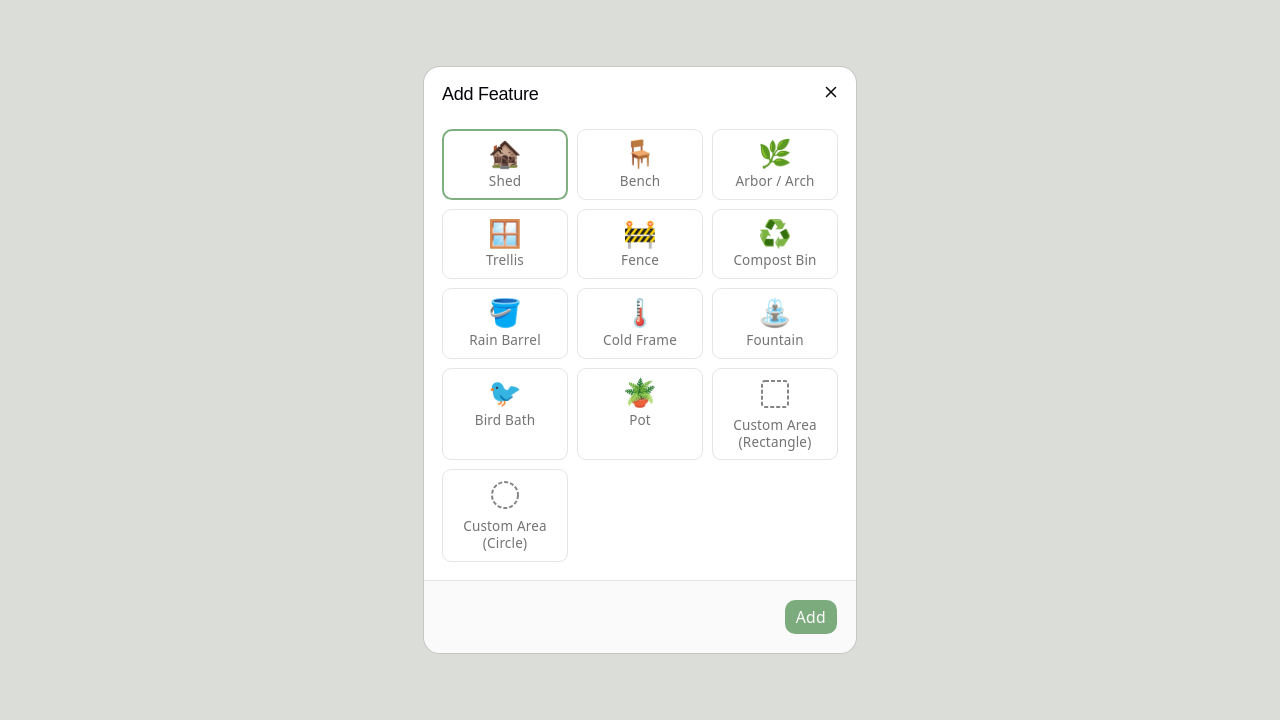
Test: PlaceFeatureDialog › custom types › shows label input when a custom type is selected
What coordinates should you click on to do the following:
click the button "Custom Area (Rectangle)"
I would click on:
 (775, 414)
Its box is [712, 368, 838, 460].
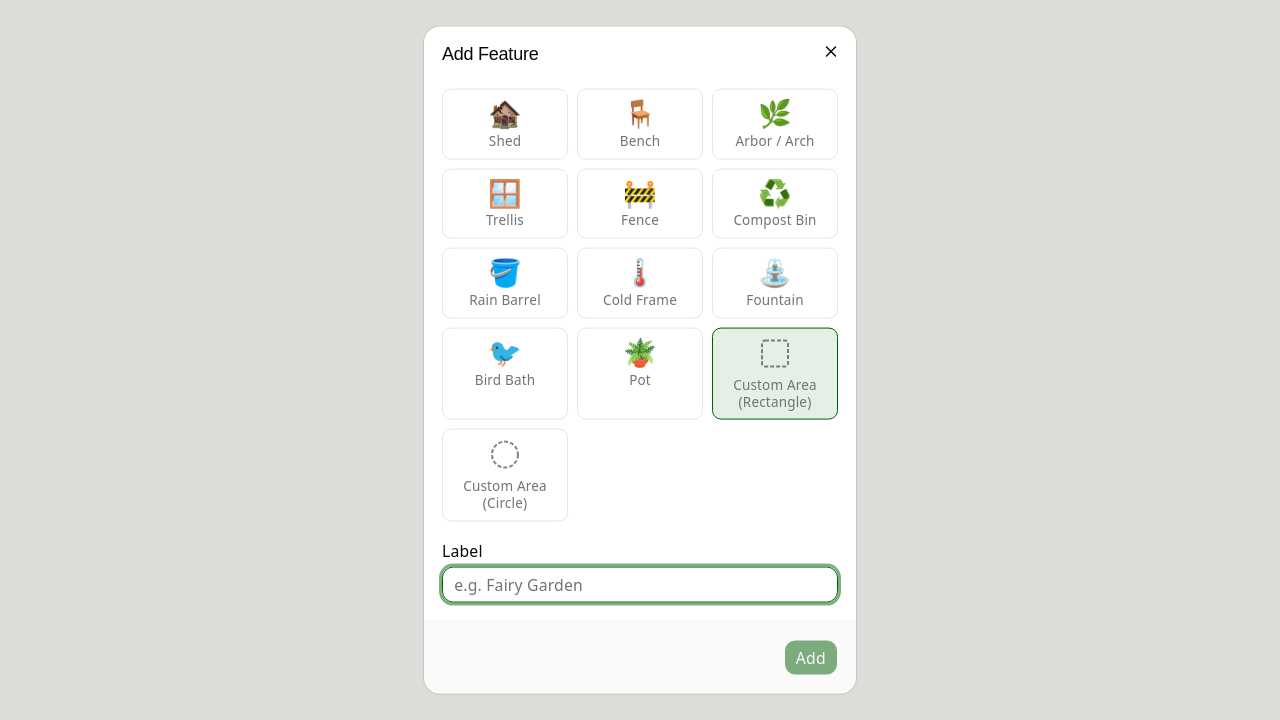
Check: the field labelled "Label" is shown, box [442, 566, 838, 602]
